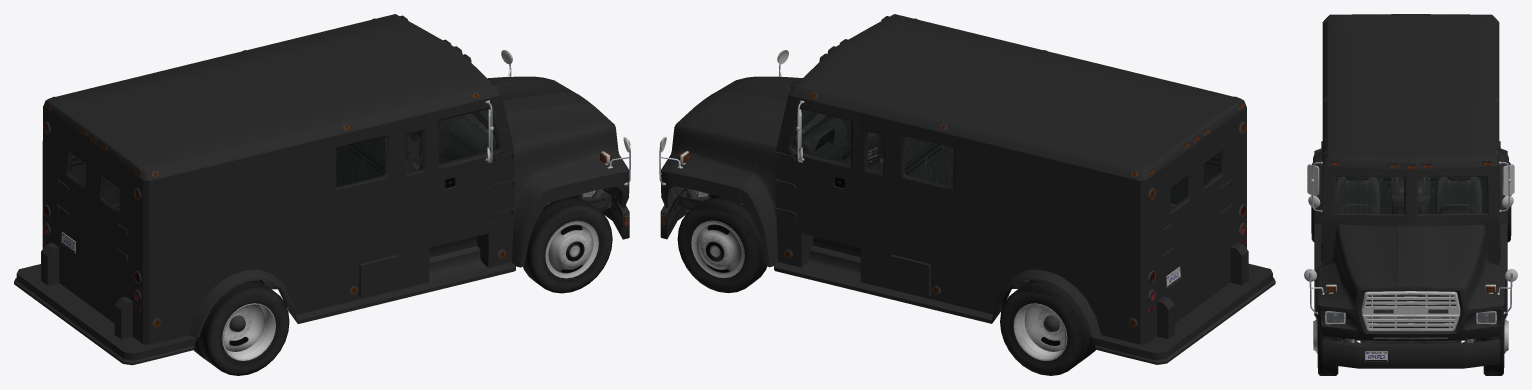
3 renders of one model, left to right at view 1: azimuth 30°, elevation 25°; view 2: azimuth 150°, elevation 25°; view 3: azimuth 270°, elevation 25°, orthographic. The views are drawn at different scales.
Parts seen in each view (by area): view 1: BODY_F700V_body_0, hood_F700V_body_0, Door_right_F700V_body_0, bottom_F700V_bottom_0, bumper_rear_F700V_body_0, wheelFR_F700V_TIRE_0, wheelRR_F700V_TIRE_0, reardoor_right_F700V_body_0, reardoor_left_F700V_body_0, Body_glass_UCB_GLASS_CLEAN_0, wheelRR_F700V_RIM_0, wheelFR_F700V_RIM_0 (+5 smaller); view 2: BODY_F700V_body_0, hood_F700V_body_0, Door_left_F700V_body_0, bottom_F700V_bottom_0, bumper_rear_F700V_body_0, wheelRL_F700V_TIRE_0, wheelFL_F700V_TIRE_0, reardoor_right_F700V_body_0, reardoor_left_F700V_body_0, Body_glass_UCB_GLASS_CLEAN_0, wheelRL_F700V_RIM_0, wheelFL_F700V_RIM_0 (+5 smaller); view 3: BODY_F700V_body_0, hood_F700V_body_0, Windshield_UCB_GLASS_CLEAN_0, Hood_inner_F700V_bottom_0, bumper_front_F700V_body_0, bottom_F700V_bottom_0, Seats_GEN4DR_INTERIOR_0, Engine_F700V_bottom_0, Door_inner_right_F700V_bottom_0, Door_inner_left_F700V_bottom_0, wheelFR_F700V_TIRE_0, wheelFL_F700V_TIRE_0 (+4 smaller).
Boxes of the visible parts, bbox=[...] form: BODY_F700V_body_0: bbox=[41, 14, 550, 344]; hood_F700V_body_0: bbox=[487, 76, 629, 207]; Door_right_F700V_body_0: bbox=[429, 96, 511, 241]; bottom_F700V_bottom_0: bbox=[44, 15, 611, 327]; bumper_rear_F700V_body_0: bbox=[14, 264, 196, 365]; wheelFR_F700V_TIRE_0: bbox=[523, 197, 612, 293]; wheelRR_F700V_TIRE_0: bbox=[193, 280, 289, 375]; reardoor_right_F700V_body_0: bbox=[92, 150, 126, 296]; reardoor_left_F700V_body_0: bbox=[58, 126, 92, 271]; Body_glass_UCB_GLASS_CLEAN_0: bbox=[336, 131, 423, 187]; wheelRR_F700V_RIM_0: bbox=[222, 303, 275, 360]; wheelFR_F700V_RIM_0: bbox=[545, 220, 598, 278]; BODY_F700V_body_0: bbox=[739, 14, 1248, 344]; hood_F700V_body_0: bbox=[661, 76, 802, 207]; Door_left_F700V_body_0: bbox=[778, 96, 860, 240]; bottom_F700V_bottom_0: bbox=[678, 16, 1244, 327]; bumper_rear_F700V_body_0: bbox=[1093, 264, 1275, 364]; wheelRL_F700V_TIRE_0: bbox=[1000, 280, 1095, 375]; wheelFL_F700V_TIRE_0: bbox=[677, 197, 766, 293]; reardoor_right_F700V_body_0: bbox=[1197, 126, 1231, 271]; reardoor_left_F700V_body_0: bbox=[1163, 150, 1196, 295]; Body_glass_UCB_GLASS_CLEAN_0: bbox=[867, 131, 953, 187]; wheelRL_F700V_RIM_0: bbox=[1013, 303, 1067, 360]; wheelFL_F700V_RIM_0: bbox=[691, 220, 744, 277]; BODY_F700V_body_0: bbox=[1313, 14, 1508, 316]; hood_F700V_body_0: bbox=[1315, 234, 1506, 341]; Windshield_UCB_GLASS_CLEAN_0: bbox=[1335, 176, 1486, 213]; Hood_inner_F700V_bottom_0: bbox=[1304, 269, 1517, 339]; bumper_front_F700V_body_0: bbox=[1322, 339, 1499, 368]; bottom_F700V_bottom_0: bbox=[1315, 19, 1506, 343]; Seats_GEN4DR_INTERIOR_0: bbox=[1335, 176, 1482, 213]; Engine_F700V_bottom_0: bbox=[1366, 294, 1455, 338]; Door_inner_right_F700V_bottom_0: bbox=[1307, 161, 1322, 212]; Door_inner_left_F700V_bottom_0: bbox=[1499, 161, 1514, 212]; wheelFR_F700V_TIRE_0: bbox=[1317, 324, 1338, 375]; wheelFL_F700V_TIRE_0: bbox=[1483, 324, 1504, 375].
Size of the model in its own units: 634 by 258 by 269.
Materials: 8 (7 with a texture image).
